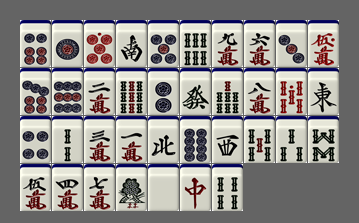0m: (308, 20, 339, 67)
0p: (84, 20, 115, 67)
0s: (276, 68, 307, 115)
1m: (116, 116, 147, 163)
1p: (52, 20, 83, 67)
1s: (116, 164, 147, 211)
1z: (308, 68, 339, 115)
2m: (84, 68, 115, 115)
2p: (148, 68, 179, 115)
2s: (52, 116, 83, 163)
2z: (116, 20, 147, 67)
3m: (84, 116, 115, 163)
3p: (276, 20, 307, 67)
3s: (276, 116, 307, 163)
3z: (212, 116, 243, 163)
4m: (52, 164, 83, 211)
4p: (20, 116, 51, 163)
4s: (212, 164, 243, 211)
4z: (148, 116, 179, 163)
5m: (20, 164, 51, 211)
5p: (148, 20, 179, 67)
5s: (244, 116, 275, 163)
5z: (148, 164, 179, 211)
6m: (244, 20, 275, 67)
6p: (20, 20, 51, 67)
6s: (180, 20, 211, 67)
6z: (180, 68, 211, 115)
7m: (84, 164, 115, 211)
7p: (20, 68, 51, 115)
7s: (212, 68, 243, 115)
7z: (180, 164, 211, 211)
8m: (244, 68, 275, 115)
8p: (180, 116, 211, 163)
8s: (308, 116, 339, 163)
9m: (212, 20, 243, 67)
9p: (52, 68, 83, 115)
9s: (116, 68, 147, 115)
